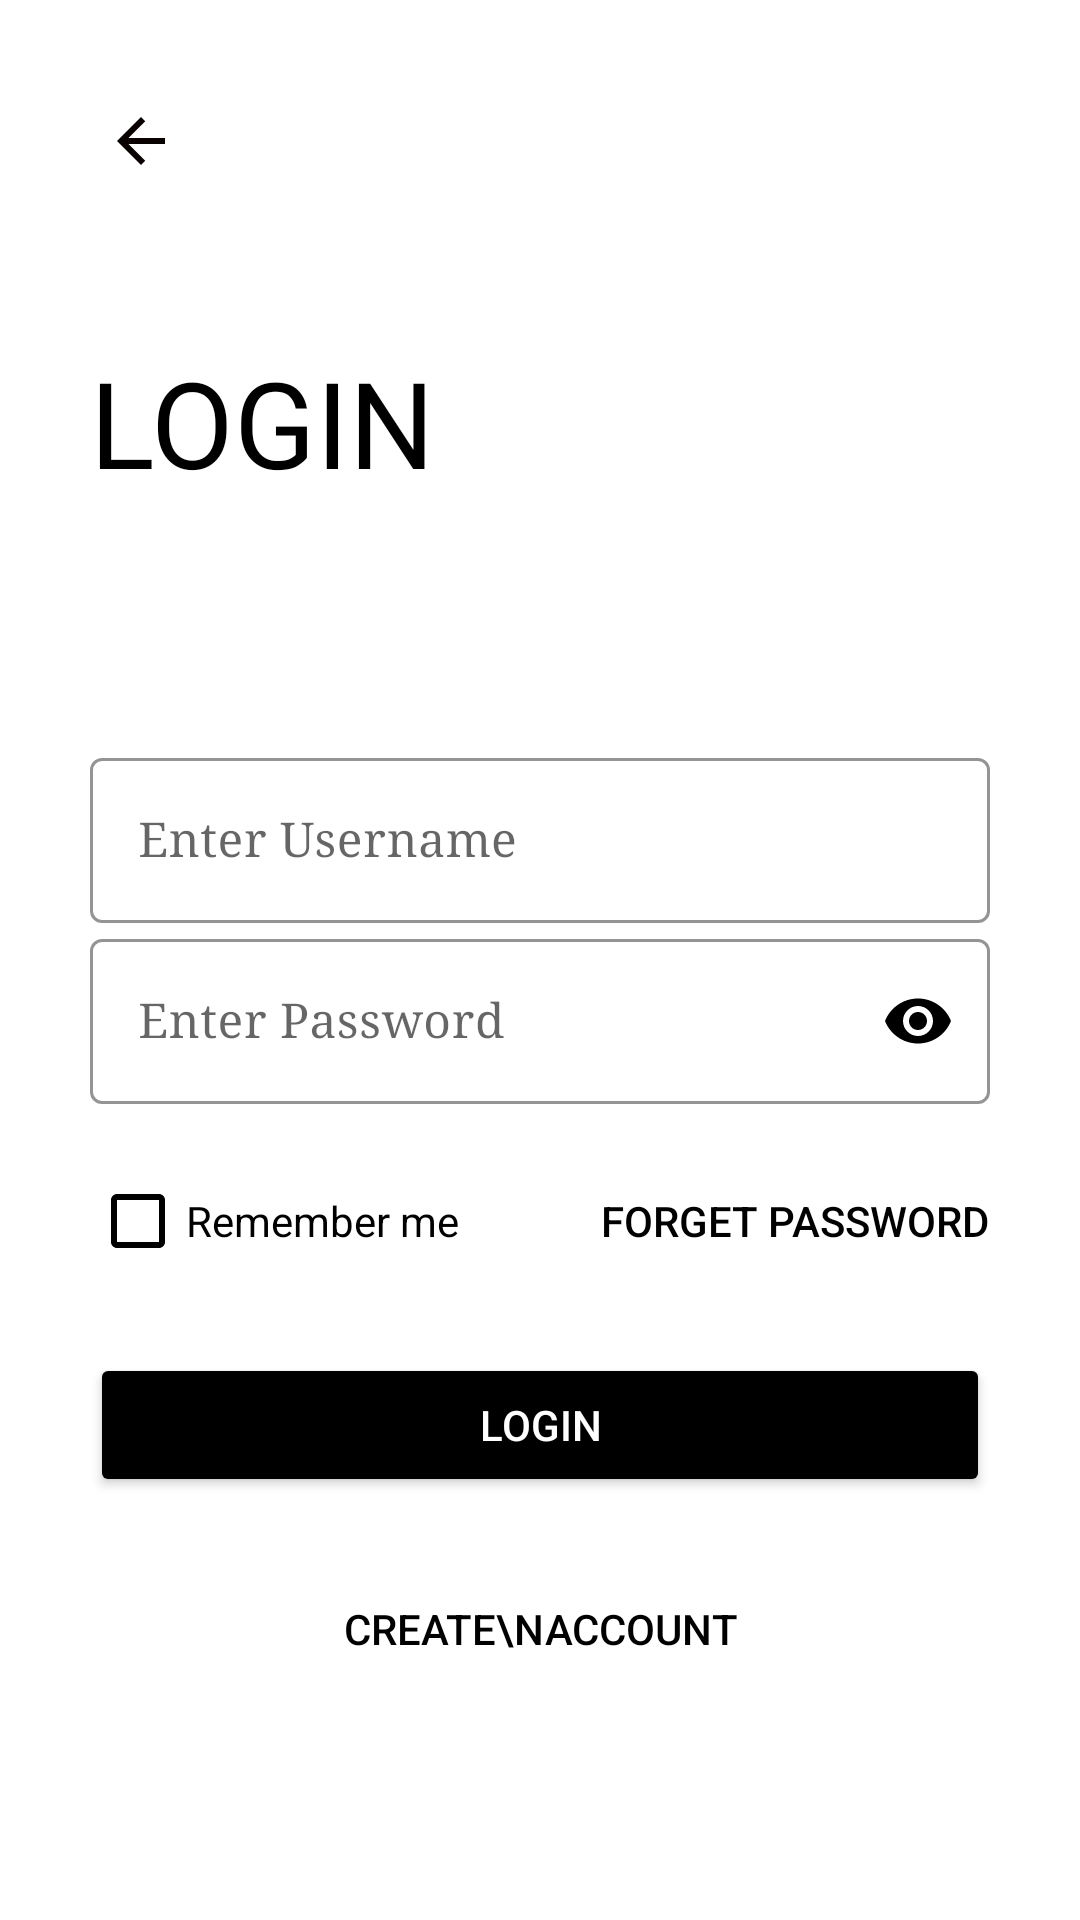

Icon click points for this 1080px x 1920px phone screenshot, format point (x, y):
back: point (141, 141)
